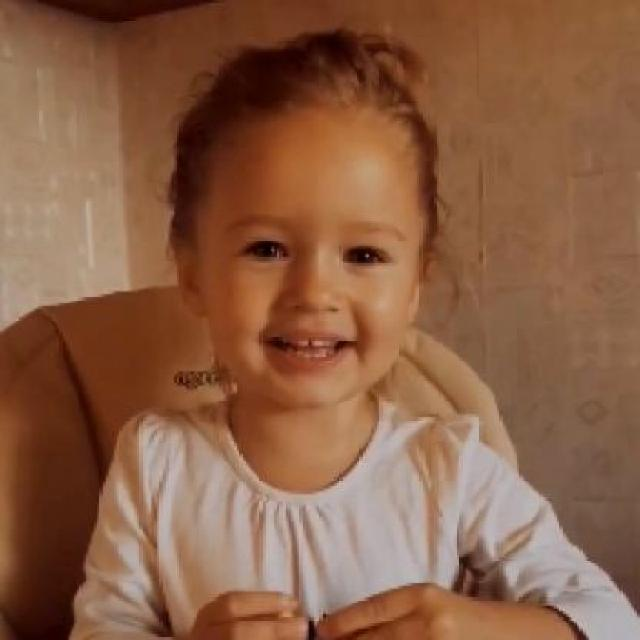child: (68, 24, 640, 638)
